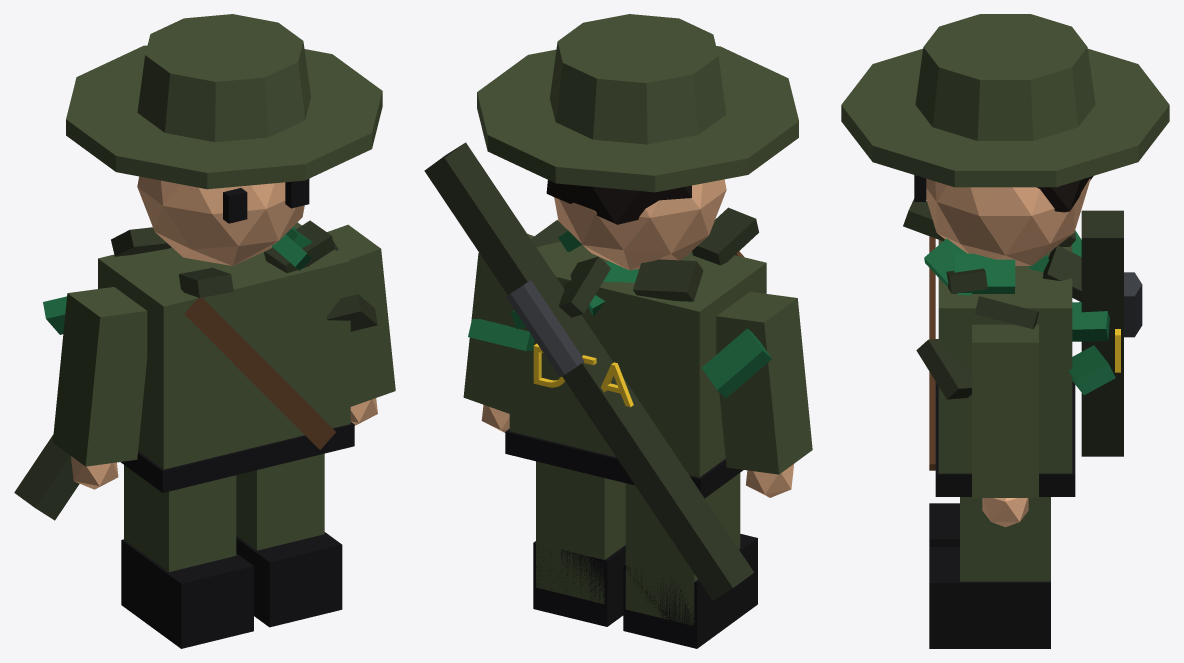
Rendered from DEA Francotirador.fbx.
3 renders of one model, left to right at view 1: azimuth 30°, elevation 25°; view 2: azimuth 150°, elevation 25°; view 3: azimuth 270°, elevation 25°, orthographic.
Visible parts, largest first — view 1: DEA Francotirador; view 2: DEA Francotirador; view 3: DEA Francotirador.
Boxes of the visible parts, left/top/right/bottom form: DEA Francotirador: left=14, top=14, right=395, bottom=648; DEA Francotirador: left=424, top=14, right=812, bottom=648; DEA Francotirador: left=841, top=14, right=1169, bottom=648.
Size of the model in its own units: 0.5977 by 1.02 by 0.54.
